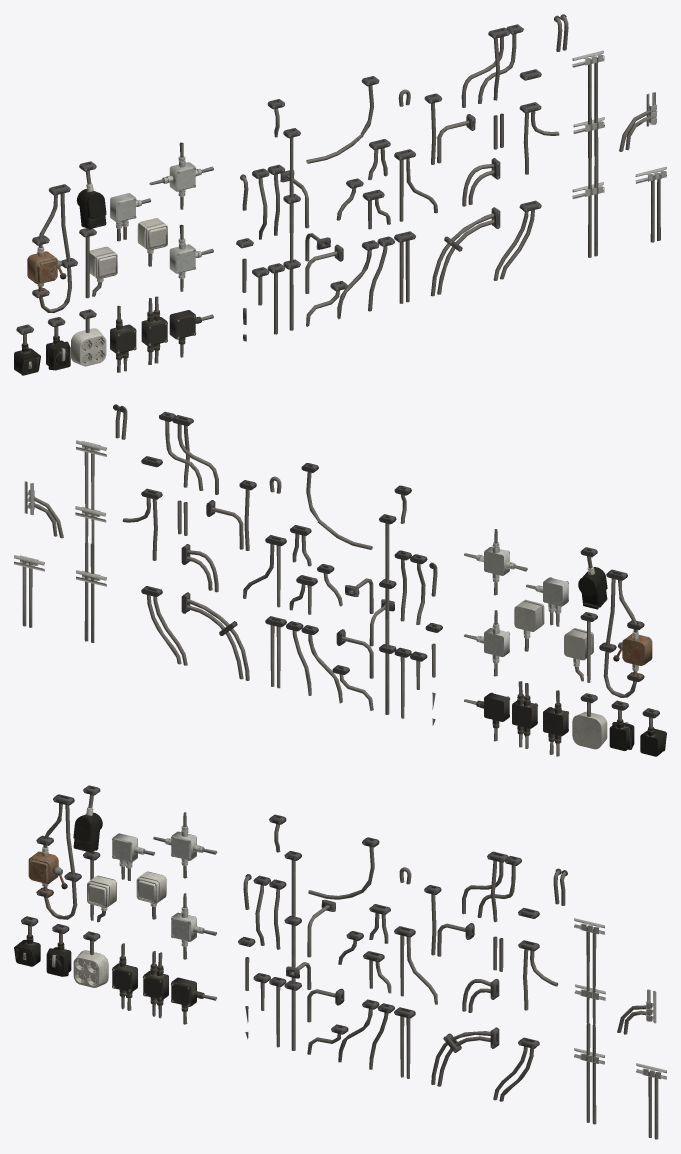
File: modular_electric_cables.glb
3 renders of one model, top to bottom at view 1: azimuth 30°, elevation 25°; view 2: azimuth 150°, elevation 25°; view 3: azimuth 330°, elevation 25°, orthographic.
Visible parts, largest first — view 1: cable_switch, cable_double_alt_long, cable_plug_4x, cable_lightswitch_double, cable_3way_junction, cable_straight_long, cable_plug_covered_2, cable_double_turn_long, cable_box_double, cable_box_4way, cable_box_3way, cable_box_double_to_single (+14 smaller); view 2: cable_switch, cable_double_alt_long, cable_3way_junction, cable_plug_4x, cable_straight_long, cable_lightswitch_double, cable_double_turn_long, cable_plug_covered_2, cable_box_double, cable_box_4way, cable_box_double_to_single, cable_box_3way (+14 smaller); view 3: cable_switch, cable_double_alt_long, cable_plug_4x, cable_3way_junction, cable_straight_long, cable_plug_covered_2, cable_lightswitch_double, cable_double_turn_long, cable_box_4way, cable_box_double, cable_box_3way, cable_box_double_to_single (+14 smaller).
Boxes of the visible parts, x1,y1,x2,y2 form: cable_switch: [27, 184, 77, 312]; cable_double_alt_long: [572, 50, 604, 257]; cable_plug_4x: [71, 309, 106, 366]; cable_lightswitch_double: [79, 228, 117, 298]; cable_3way_junction: [461, 24, 523, 107]; cable_straight_long: [283, 128, 300, 330]; cable_plug_covered_2: [76, 161, 106, 228]; cable_double_turn_long: [430, 207, 500, 296]; cable_box_double: [141, 296, 167, 364]; cable_box_4way: [149, 142, 213, 209]; cable_box_3way: [169, 224, 213, 291]; cable_box_double_to_single: [110, 305, 136, 372]; cable_switch: [599, 569, 652, 697]; cable_double_alt_long: [75, 440, 106, 642]; cable_3way_junction: [159, 411, 218, 494]; cable_plug_4x: [572, 693, 607, 749]; cable_straight_long: [379, 514, 396, 714]; cable_lightswitch_double: [564, 612, 597, 682]; cable_double_turn_long: [181, 592, 249, 680]; cable_plug_covered_2: [578, 547, 607, 609]; cable_box_double: [512, 681, 537, 748]; cable_box_4way: [464, 529, 527, 595]; cable_box_double_to_single: [543, 690, 568, 756]; cable_box_3way: [464, 610, 509, 676]; cable_switch: [28, 794, 81, 919]; cable_double_alt_long: [574, 918, 605, 1124]; cable_plug_4x: [73, 931, 108, 987]; cable_3way_junction: [462, 851, 521, 922]; cable_straight_long: [284, 851, 301, 1050]; cable_plug_covered_2: [73, 785, 102, 852]; cable_lightswitch_double: [83, 851, 116, 922]; cable_double_turn_long: [431, 1027, 499, 1086]; cable_box_4way: [153, 812, 217, 878]; cable_box_double: [143, 951, 168, 1018]; cable_box_3way: [171, 893, 216, 959]; cable_box_double_to_single: [112, 943, 137, 1010].
Size of the model in its own units: 2.08 by 0.7577 by 0.2148.
Materials: 2 (2 with a texture image).
